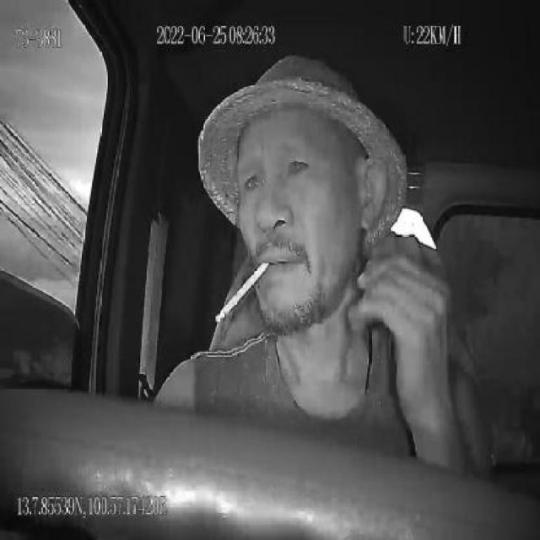smoking: (212, 258, 270, 326)
